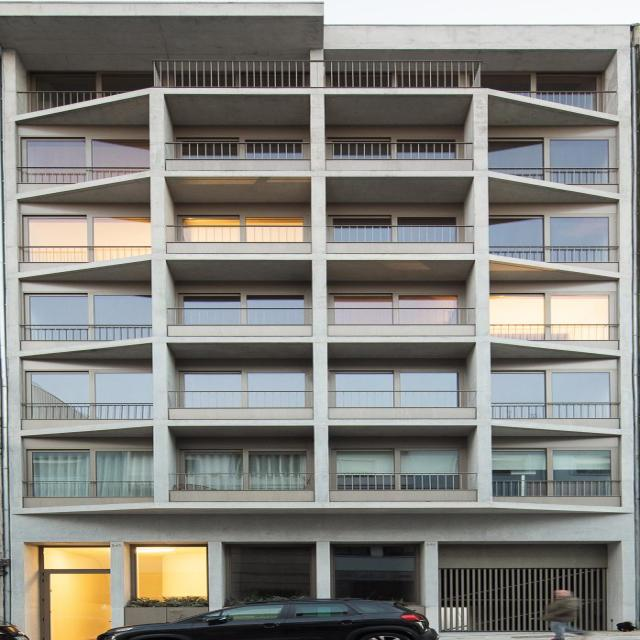door: (41, 546, 110, 639)
railing: (147, 61, 482, 89), (166, 142, 311, 161), (323, 144, 474, 160), (176, 394, 318, 411), (333, 391, 474, 408), (29, 93, 138, 114), (180, 226, 314, 243), (175, 310, 317, 326), (183, 475, 314, 492), (333, 227, 472, 243), (334, 310, 471, 326), (486, 168, 610, 185), (341, 475, 471, 491), (20, 167, 150, 183), (30, 482, 159, 498), (26, 248, 153, 264), (34, 326, 160, 342), (496, 326, 620, 342), (512, 92, 605, 113), (29, 405, 158, 420), (497, 483, 623, 498), (497, 404, 623, 419), (492, 247, 614, 262)
window: (328, 543, 414, 605), (221, 544, 305, 601), (21, 371, 151, 404), (482, 293, 612, 324), (21, 294, 151, 325), (131, 547, 207, 600), (490, 371, 614, 402), (22, 216, 148, 246), (491, 450, 614, 480), (21, 138, 146, 167), (24, 451, 148, 480), (488, 216, 607, 246), (484, 140, 605, 168), (178, 450, 310, 473), (178, 369, 306, 391), (178, 139, 305, 161), (332, 451, 459, 473), (326, 139, 458, 160), (327, 372, 462, 391), (32, 73, 143, 92), (324, 294, 455, 310), (177, 293, 309, 308), (480, 75, 594, 91), (174, 216, 307, 226), (324, 216, 460, 225)
